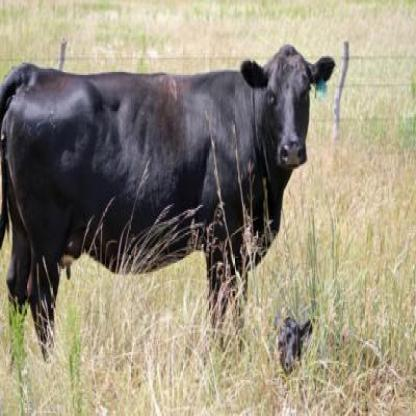mouth: (278, 140, 308, 170)
upper: (287, 148, 299, 160)
